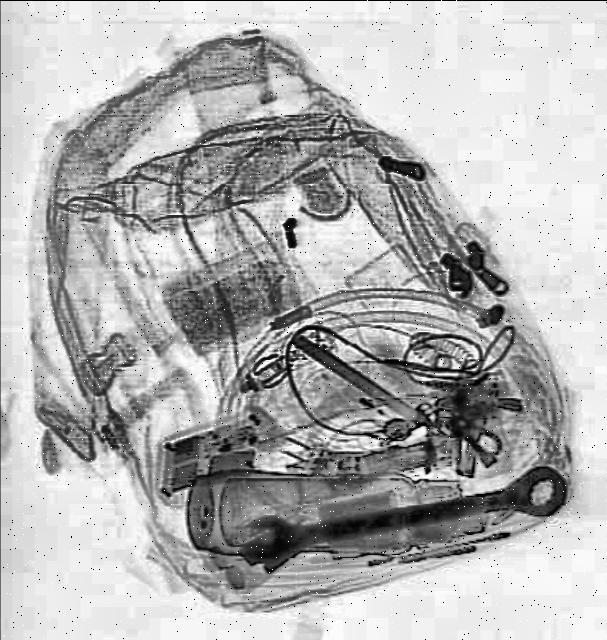Wrench: (238, 461, 566, 564)
